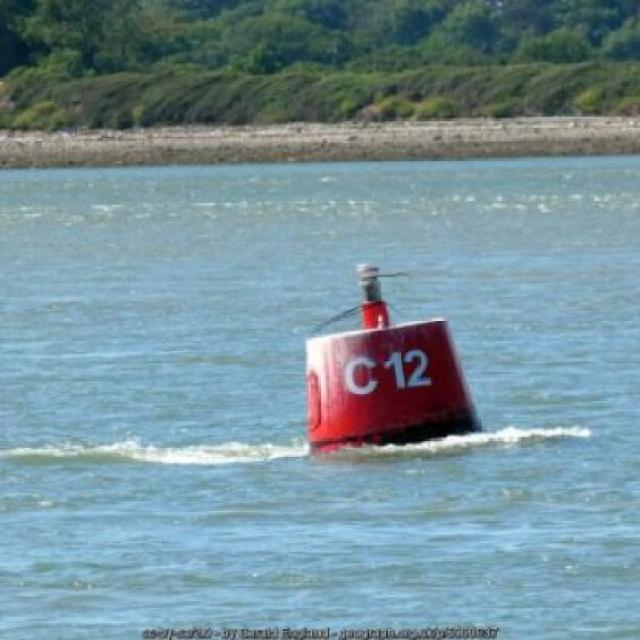buoy: (293, 258, 494, 456)
